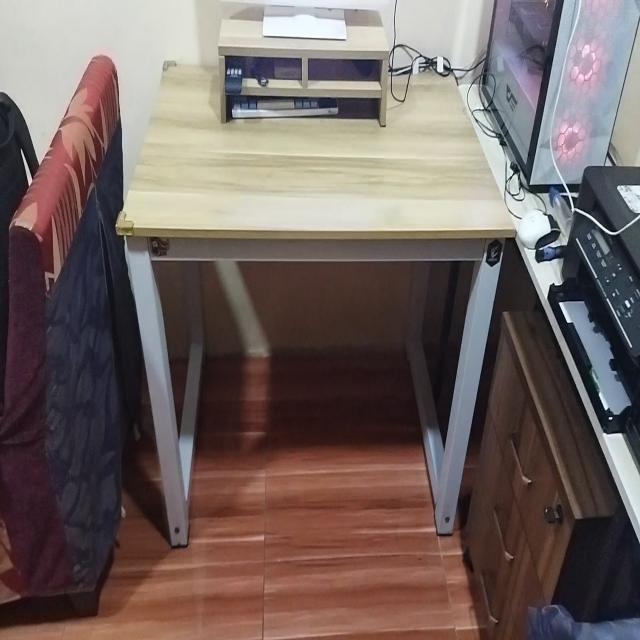table: (111, 55, 501, 554)
